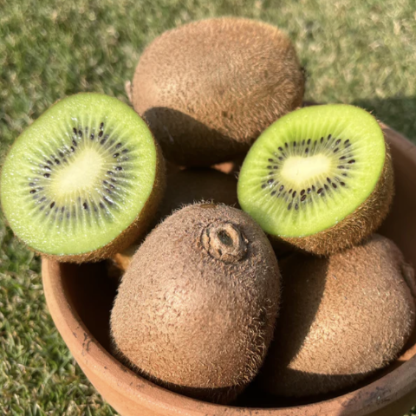kiwi: (103, 169, 291, 409), (113, 13, 309, 173)
